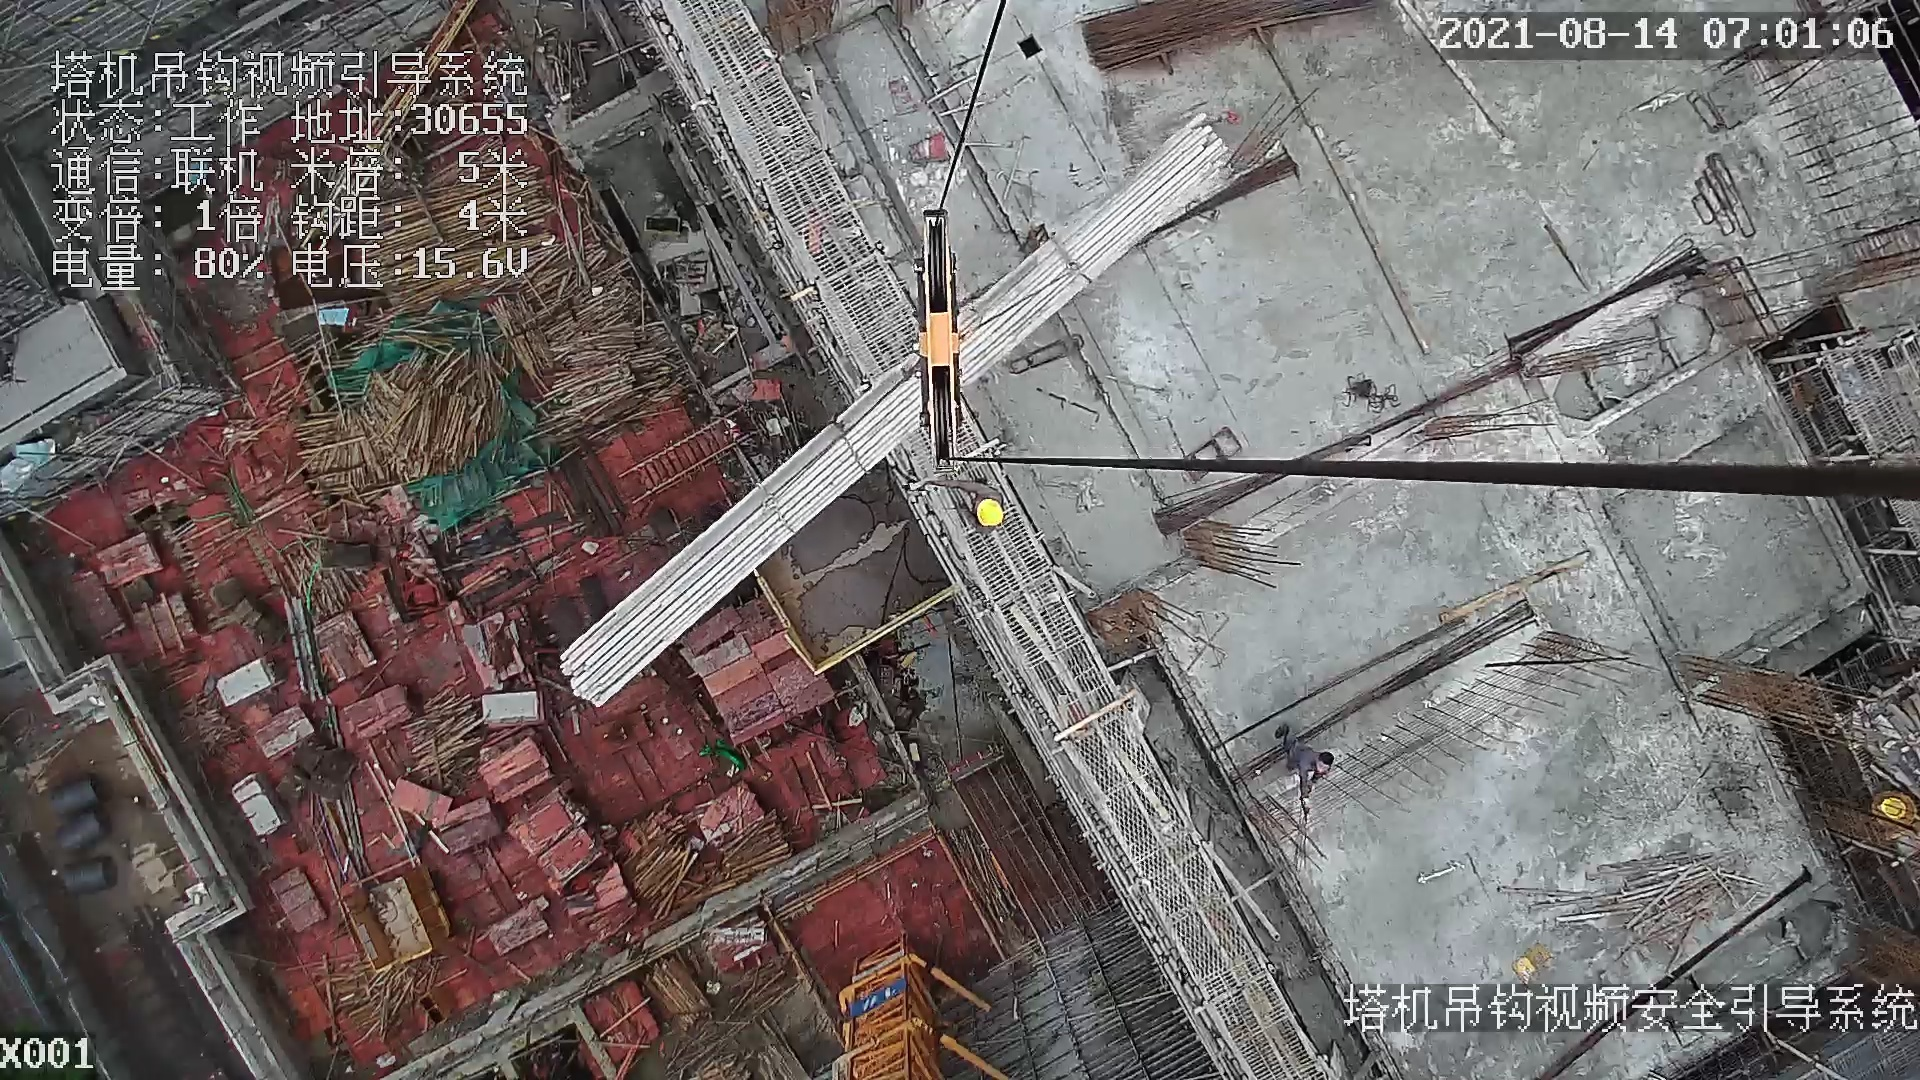helmet: (970, 490, 1005, 532)
hook: (897, 199, 974, 489)
person: (1264, 719, 1329, 819), (919, 477, 1010, 544)
